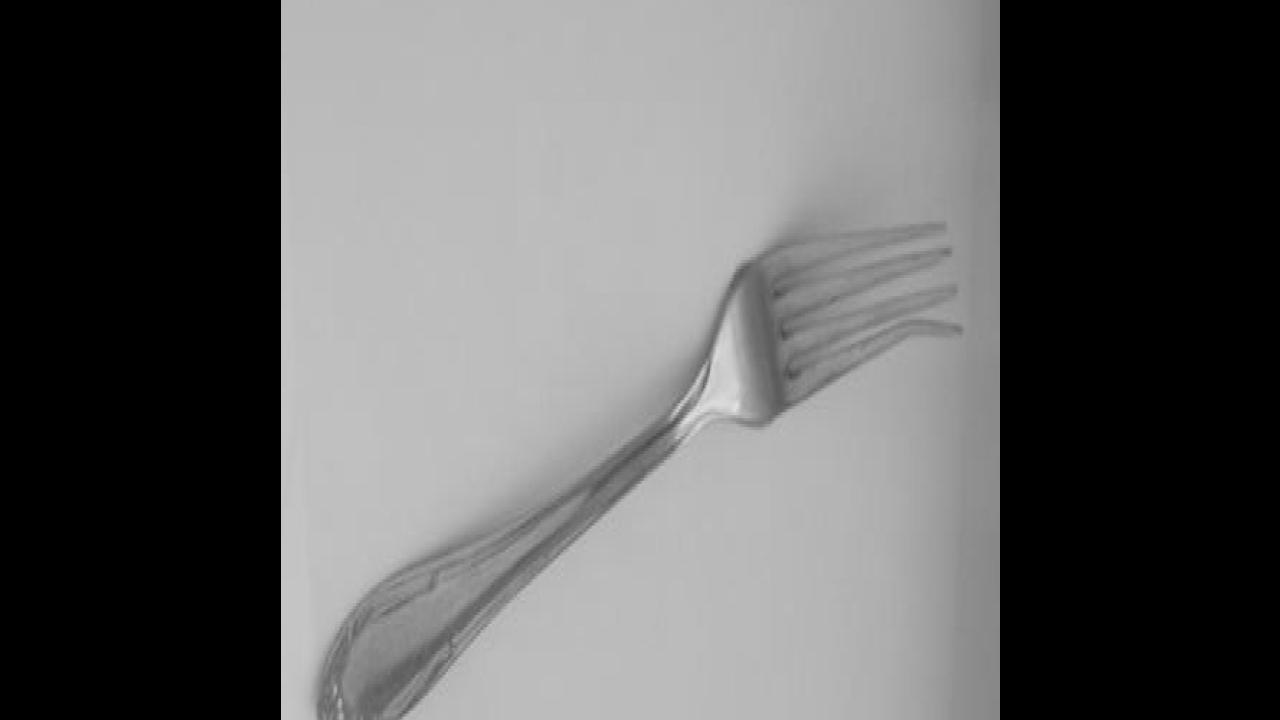fork: (316, 215, 964, 720)
